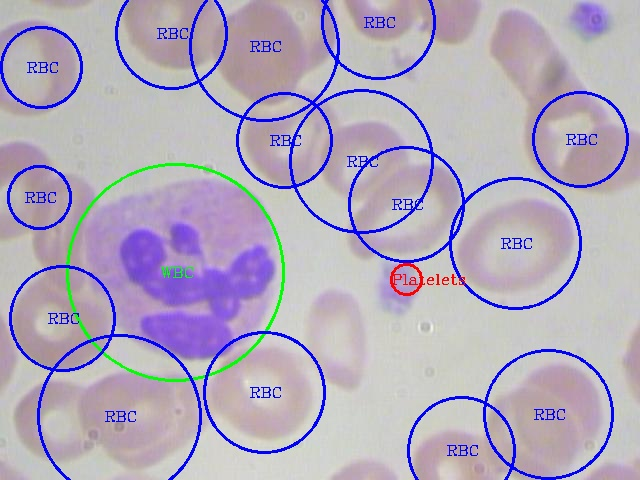Platelets: (370, 253, 425, 319), (562, 0, 617, 42)
RBC: (452, 191, 580, 299), (343, 156, 465, 258), (515, 80, 621, 191), (206, 339, 318, 444), (83, 366, 205, 462), (505, 356, 607, 465), (209, 1, 311, 108), (5, 276, 115, 373), (237, 88, 335, 187), (0, 12, 84, 120), (296, 281, 379, 390), (314, 115, 413, 204), (5, 372, 94, 462), (117, 1, 226, 72), (491, 9, 569, 102), (1, 136, 58, 244), (560, 120, 639, 195), (403, 421, 501, 478), (37, 180, 87, 289)
WBC: (83, 171, 296, 366)
